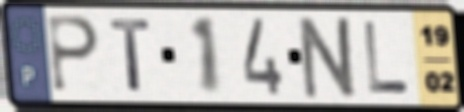1: (187, 14, 223, 98)
4: (242, 15, 285, 98)
L: (361, 20, 412, 97)
N: (297, 14, 361, 101)
P: (45, 13, 102, 96)
T: (107, 17, 154, 94)
